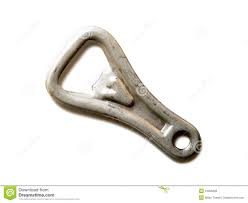bottleopener: (46, 26, 202, 161)
